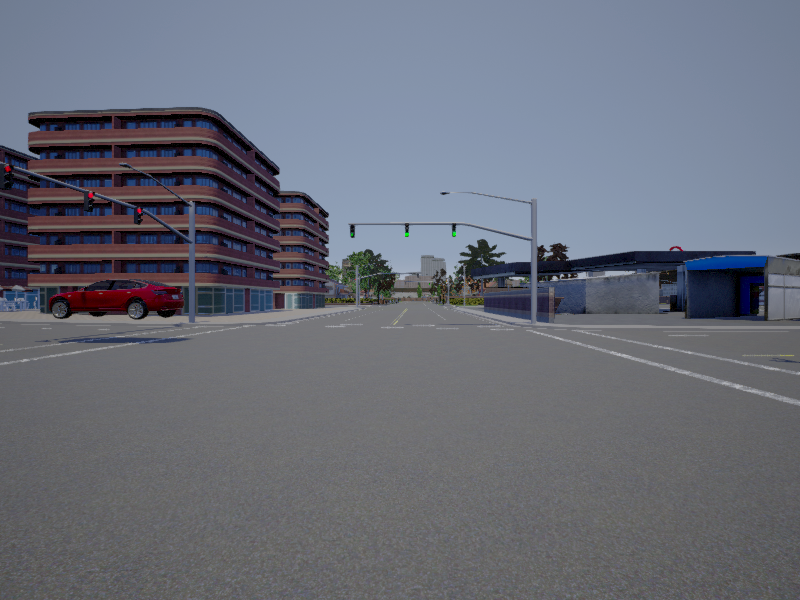Attacker: (50, 277, 186, 319)
